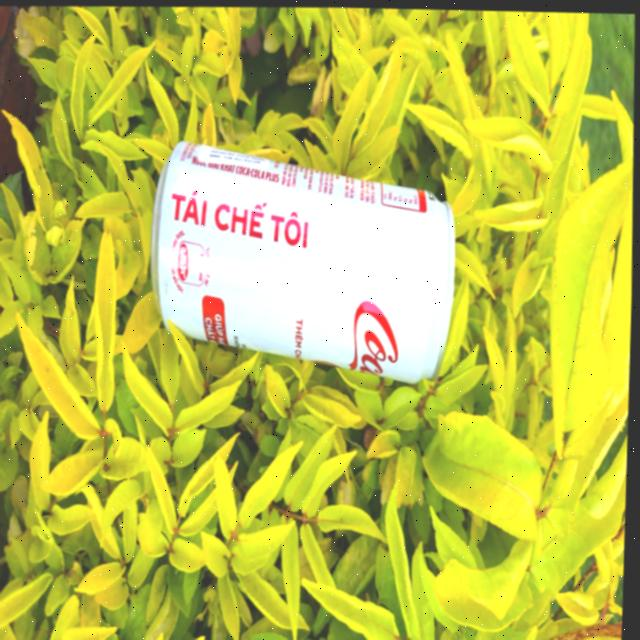Coca Cola Plus: (147, 130, 461, 392)
